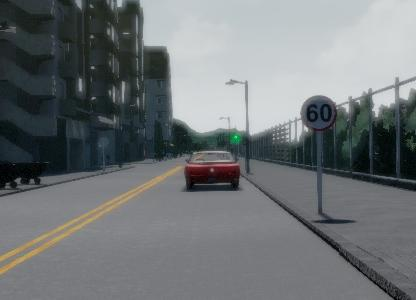Speed_60: (299, 93, 338, 131)
